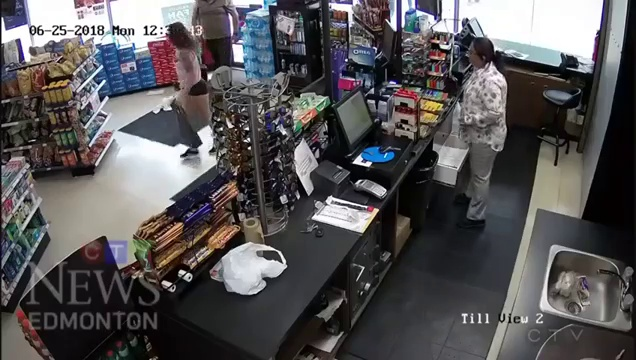face: (466, 42, 480, 68)
